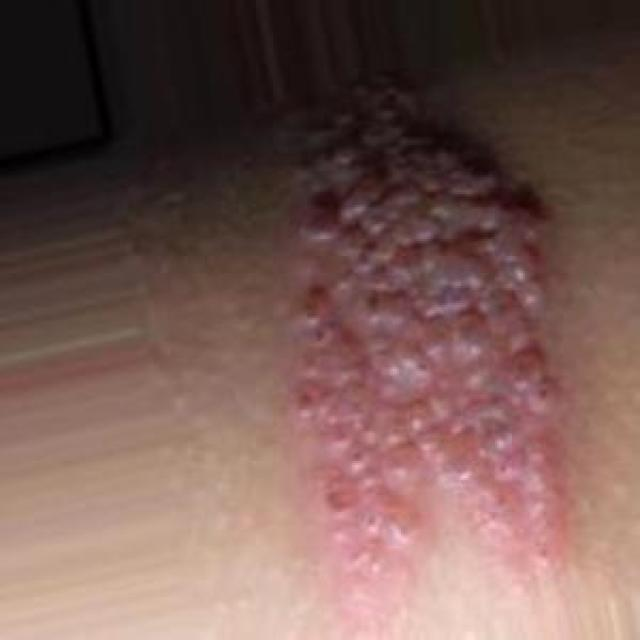Shingles: (282, 87, 584, 587)
